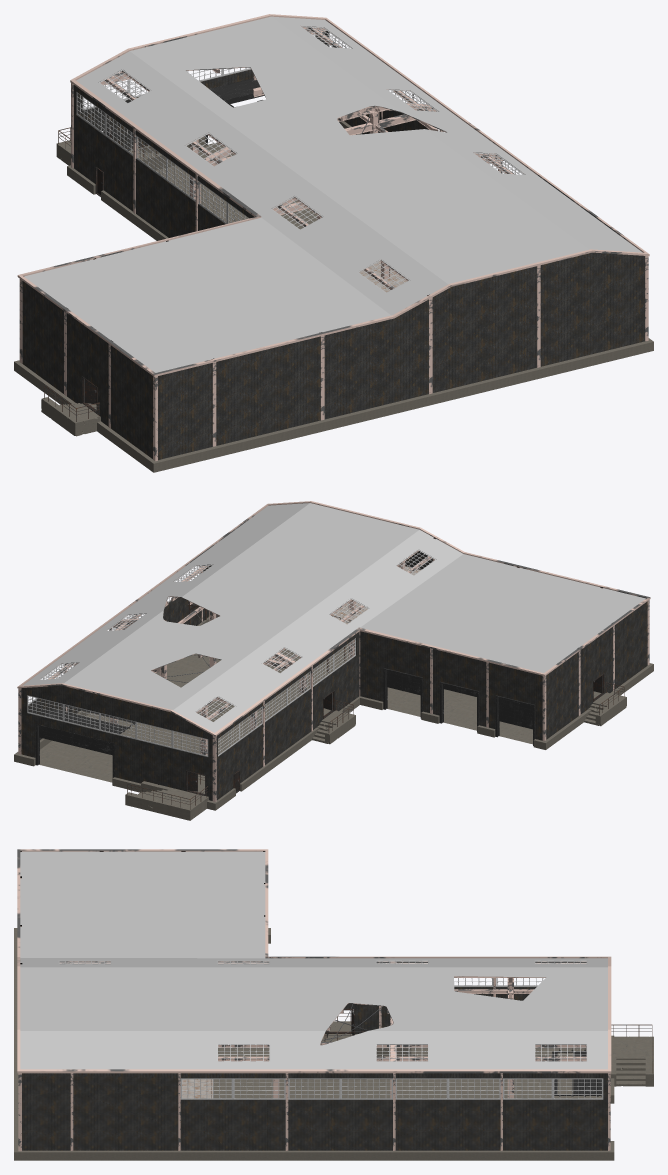
File: warehouse.fbx
3 views of the same model, one above another, from view 1: azimuth 30°, elevation 25°; view 2: azimuth 150°, elevation 25°; view 3: azimuth 270°, elevation 25° (orthographic). The views are drawn at different scales.
Parts seen in each view (by area): view 1: Roof, WarehouseWalls, WarehouseBase, Windows, SideSupportBeam, MainSupportBeam, ConcreteSteps, Floor, MainGate.001; view 2: Roof, WarehouseWalls, Floor, Windows, ConcreteSteps, WarehouseBase, SideSupportBeam, MainSupportBeam, MainGate.001, SmallGateVar1, SmallGateVar2, Railings (+2 smaller); view 3: Roof, WarehouseWalls, Windows, WarehouseBase, Floor, ConcreteSteps, MainSupportBeam, SideSupportBeam, MainGate.001, Walkway.001.
Boxes of the visible parts, x1,y1,x2,y2 form: Roof: [17, 14, 649, 376]; WarehouseWalls: [22, 31, 644, 459]; WarehouseBase: [14, 121, 653, 472]; Windows: [76, 26, 524, 293]; SideSupportBeam: [19, 83, 648, 461]; MainSupportBeam: [100, 27, 513, 289]; ConcreteSteps: [41, 140, 175, 436]; Floor: [156, 142, 316, 229]; MainGate.001: [204, 78, 264, 145]; Roof: [17, 501, 650, 736]; WarehouseWalls: [21, 551, 647, 800]; Floor: [39, 644, 532, 784]; Windows: [27, 549, 436, 756]; ConcreteSteps: [125, 691, 626, 820]; WarehouseBase: [14, 616, 653, 810]; SideSupportBeam: [18, 537, 649, 801]; MainSupportBeam: [48, 550, 431, 755]; MainGate.001: [35, 677, 135, 777]; SmallGateVar1: [495, 695, 535, 745]; SmallGateVar2: [383, 668, 422, 718]; Railings: [127, 682, 624, 809]; Roof: [17, 849, 611, 1073]; WarehouseWalls: [22, 962, 607, 1150]; Windows: [58, 960, 603, 1099]; WarehouseBase: [14, 928, 614, 1160]; Floor: [213, 1048, 601, 1098]; ConcreteSteps: [322, 1021, 653, 1086]; MainSupportBeam: [60, 961, 586, 1098]; SideSupportBeam: [18, 851, 610, 1151]; MainGate.001: [552, 1048, 601, 1096]; Walkway.001: [182, 1079, 212, 1098].
Size of the model in its own units: 12457 by 2589 by 14390.
